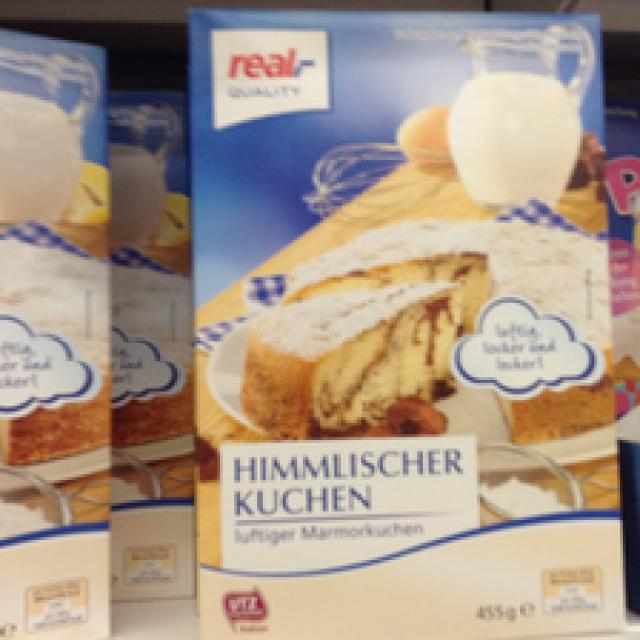groceries: (185, 0, 620, 634)
